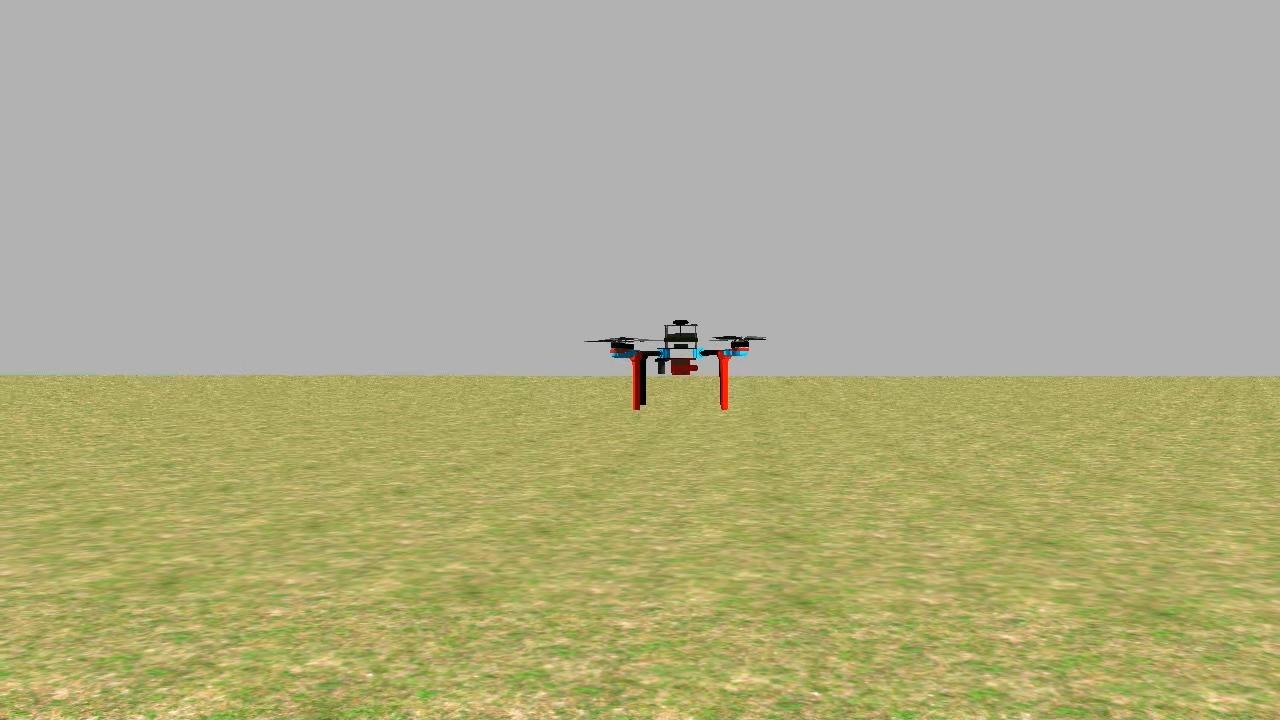UAV: (598, 308, 766, 423)
